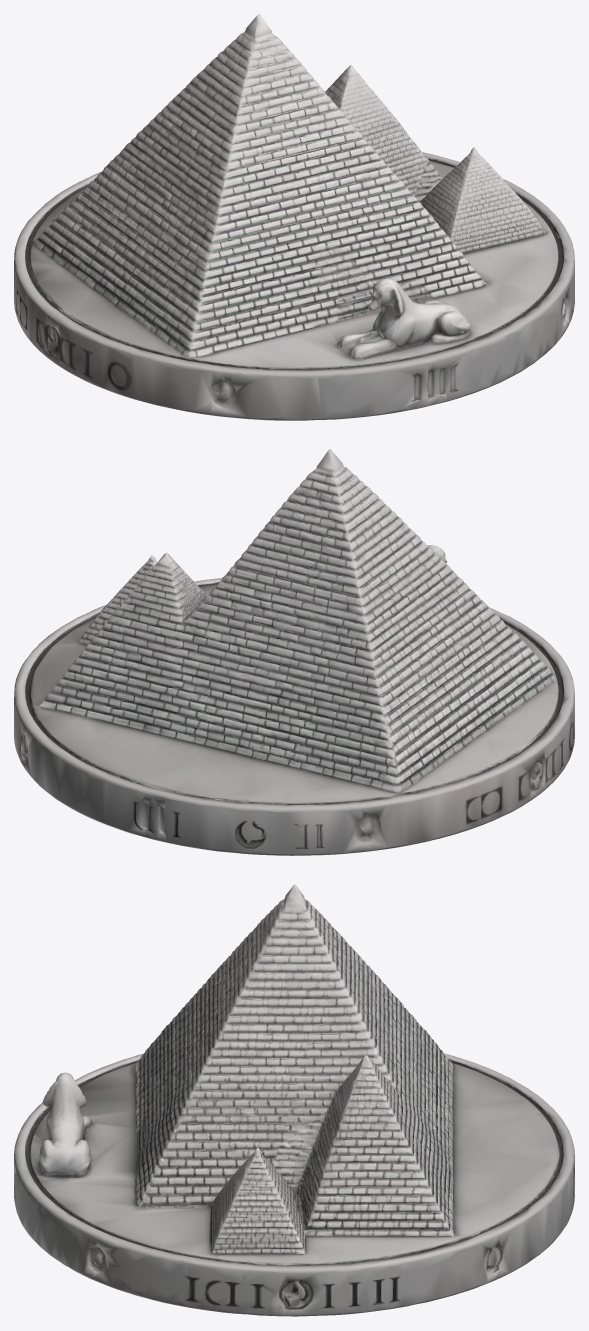
The model's file is pyramid_giza_silver.glb.
The picture shows the model from 3 angles, top to bottom: view 1: azimuth 30°, elevation 25°; view 2: azimuth 150°, elevation 25°; view 3: azimuth 270°, elevation 25°; orthographic projection.
Parts seen in each view (by area): view 1: Mesh_0; view 2: Mesh_0; view 3: Mesh_0.
Boxes of the visible parts, <box> form: Mesh_0: <box>14,14,574,420</box>; Mesh_0: <box>14,449,574,855</box>; Mesh_0: <box>14,884,574,1316</box>.
Size of the model in its own units: 1.91 by 1.12 by 1.91.
Materials: 1 (1 with a texture image).
